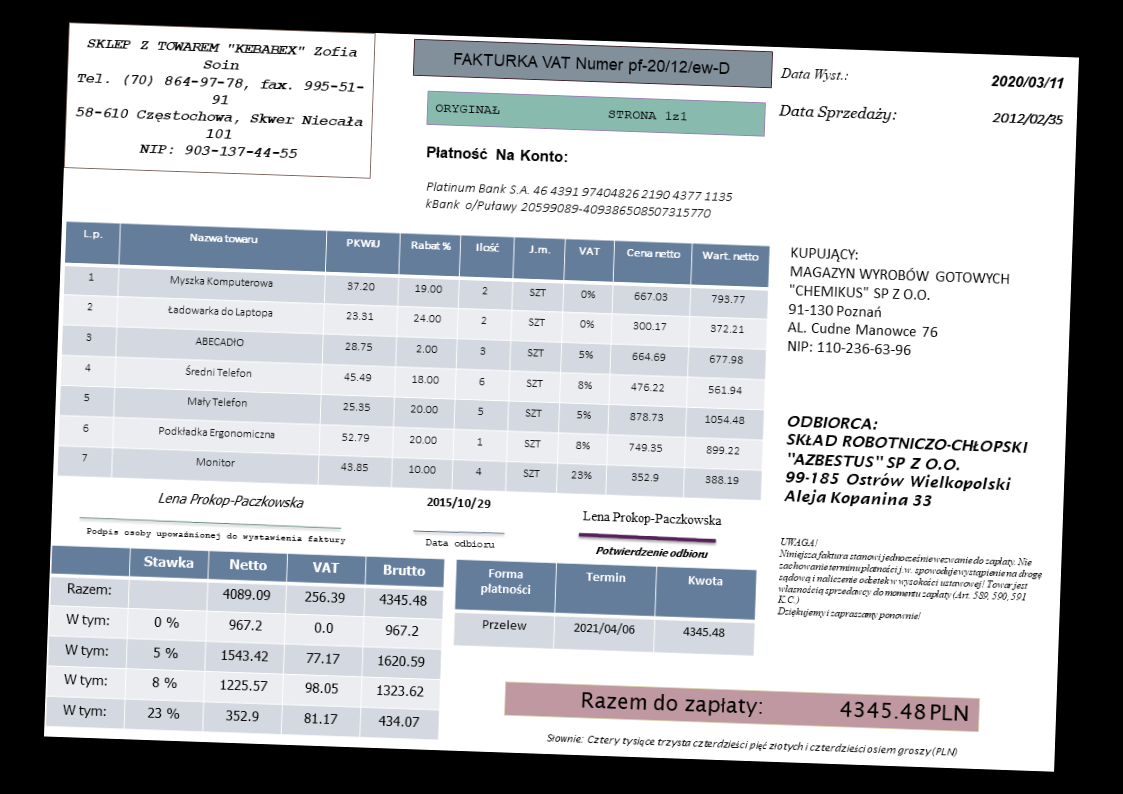Table: (55, 220, 772, 502), (45, 544, 446, 742), (452, 558, 759, 657)
TextBox: (70, 35, 369, 162), (784, 242, 1014, 362), (775, 534, 1047, 628), (782, 412, 1030, 514), (580, 689, 970, 726), (422, 178, 735, 222), (545, 731, 960, 759), (450, 47, 734, 80), (434, 100, 691, 124), (83, 525, 347, 546), (156, 489, 306, 512), (424, 143, 571, 166), (579, 507, 722, 529), (777, 102, 900, 125), (593, 542, 709, 561), (990, 72, 1066, 91), (990, 109, 1065, 128), (779, 64, 850, 84), (425, 493, 493, 513), (423, 535, 496, 551)
